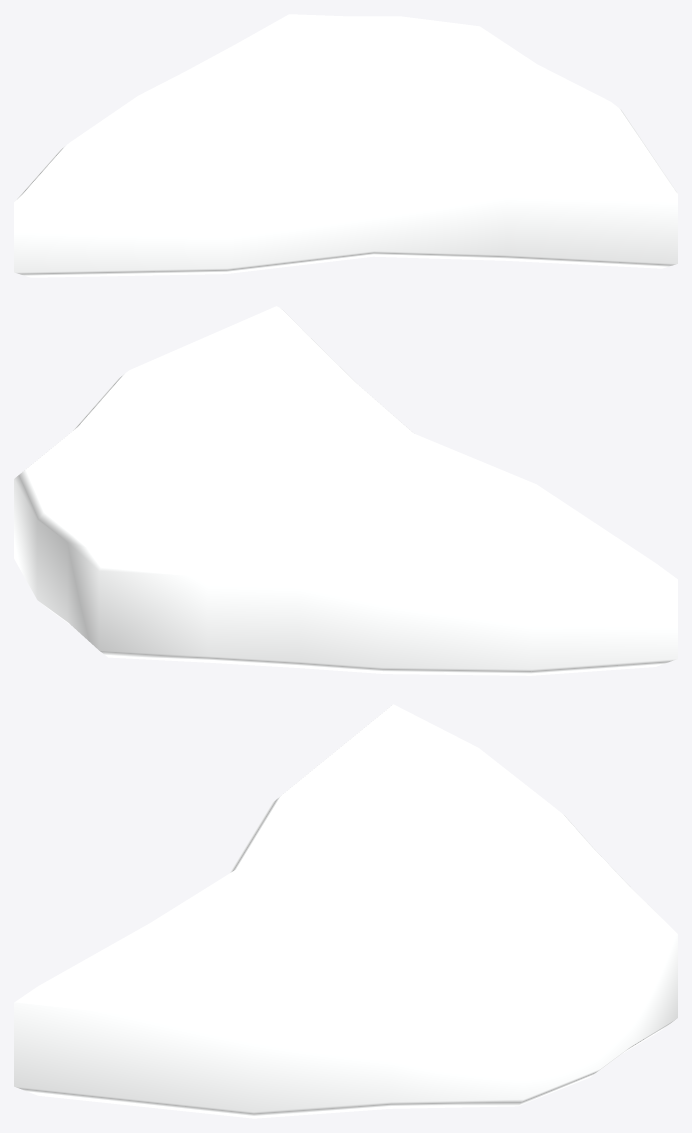
Rendered from ice_floe_medium_011.glb.
3 renders of one model, top to bottom at view 1: azimuth 30°, elevation 25°; view 2: azimuth 150°, elevation 25°; view 3: azimuth 270°, elevation 25°, orthographic. The views are drawn at different scales.
Parts seen in each view (by area): view 1: ice_floe_medium_011; view 2: ice_floe_medium_011; view 3: ice_floe_medium_011.
Boxes of the visible parts, x1=… form: ice_floe_medium_011: x1=14, y1=14, x2=677, y2=277; ice_floe_medium_011: x1=14, y1=306, x2=677, y2=675; ice_floe_medium_011: x1=14, y1=704, x2=677, y2=1118.
Bounding box in the file's own units: 5.64 × 0.8944 × 4.91.
1 material, 1 textured.
